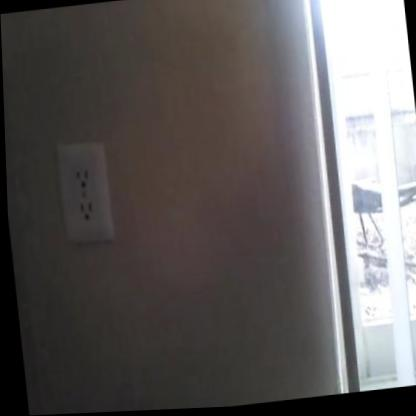OUTLET: (55, 139, 114, 247)
